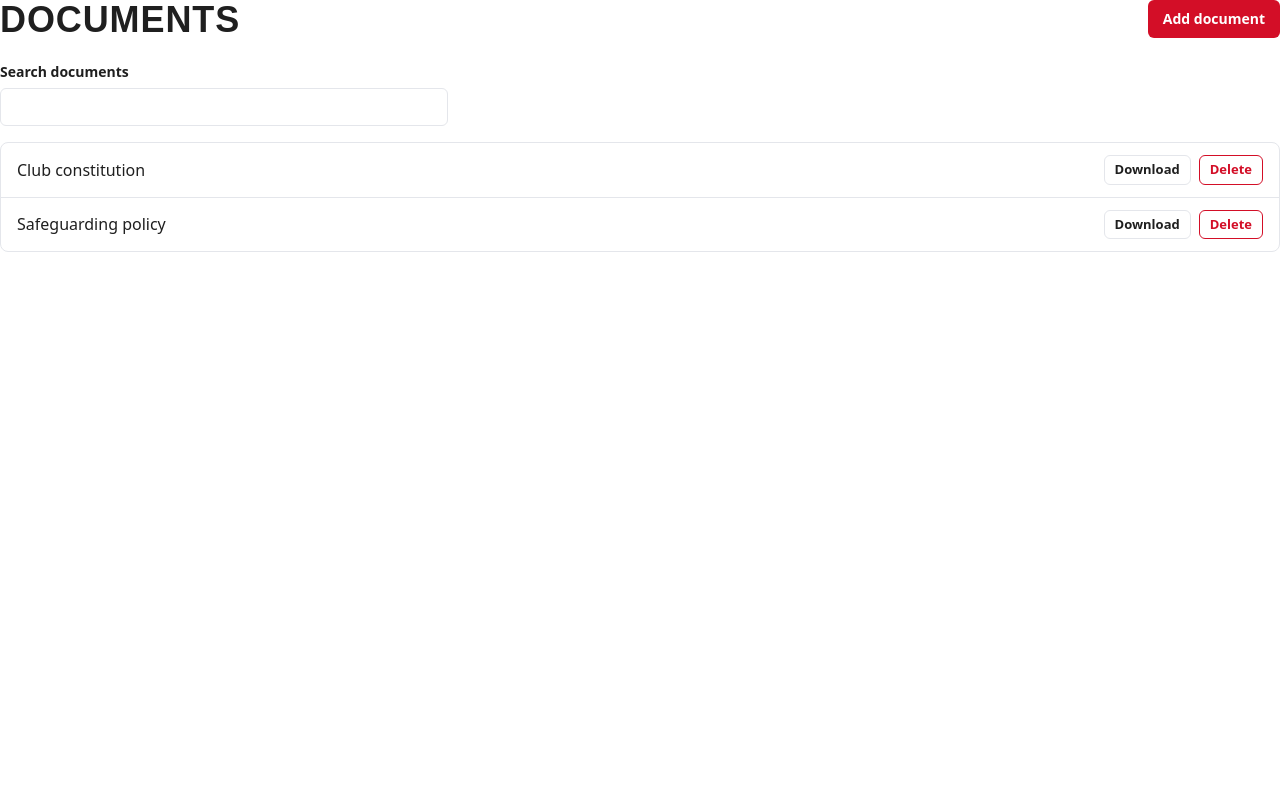
it: Documents editing › deletes a document after confirming
Click the button "Delete" in the row of "Club constitution" at x=1231, y=170, box [1199,155,1263,184]
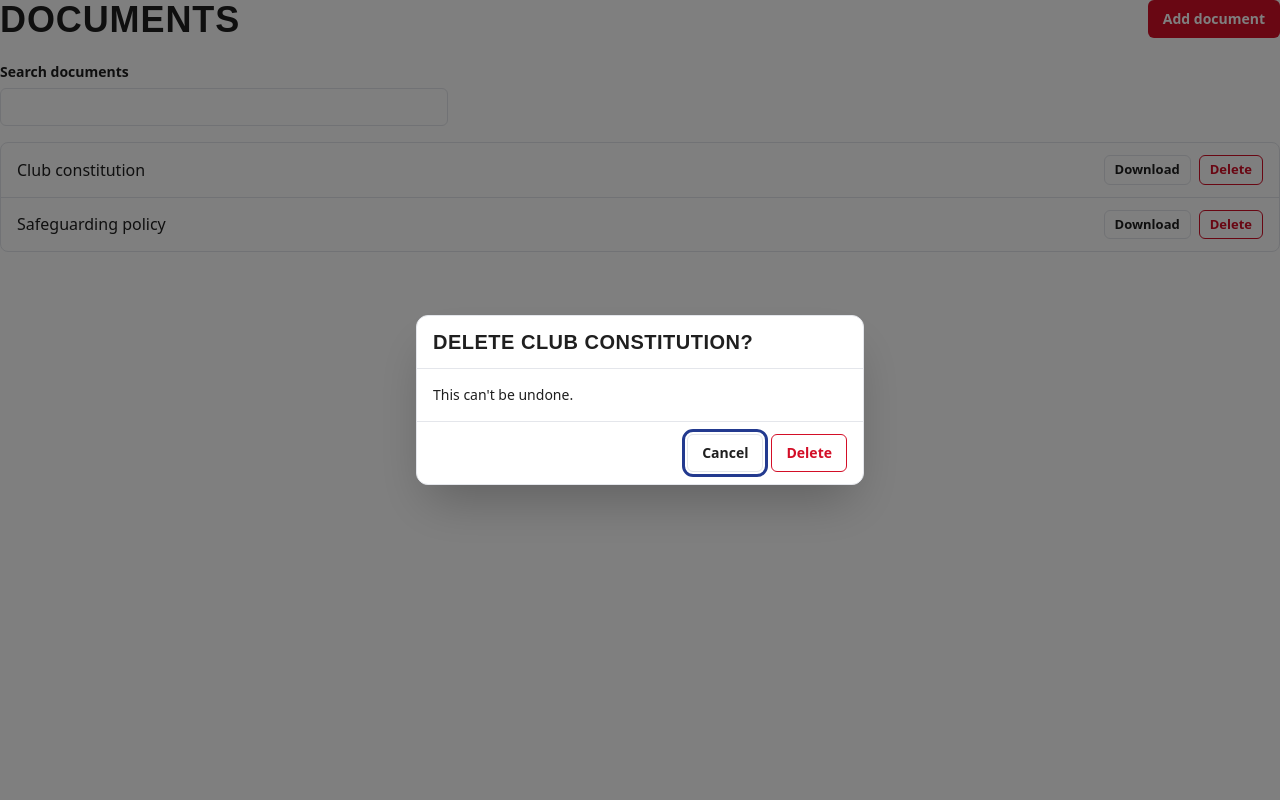
Click the button "Delete" below "This can't be undone." at x=809, y=453, box [772,434,847,472]
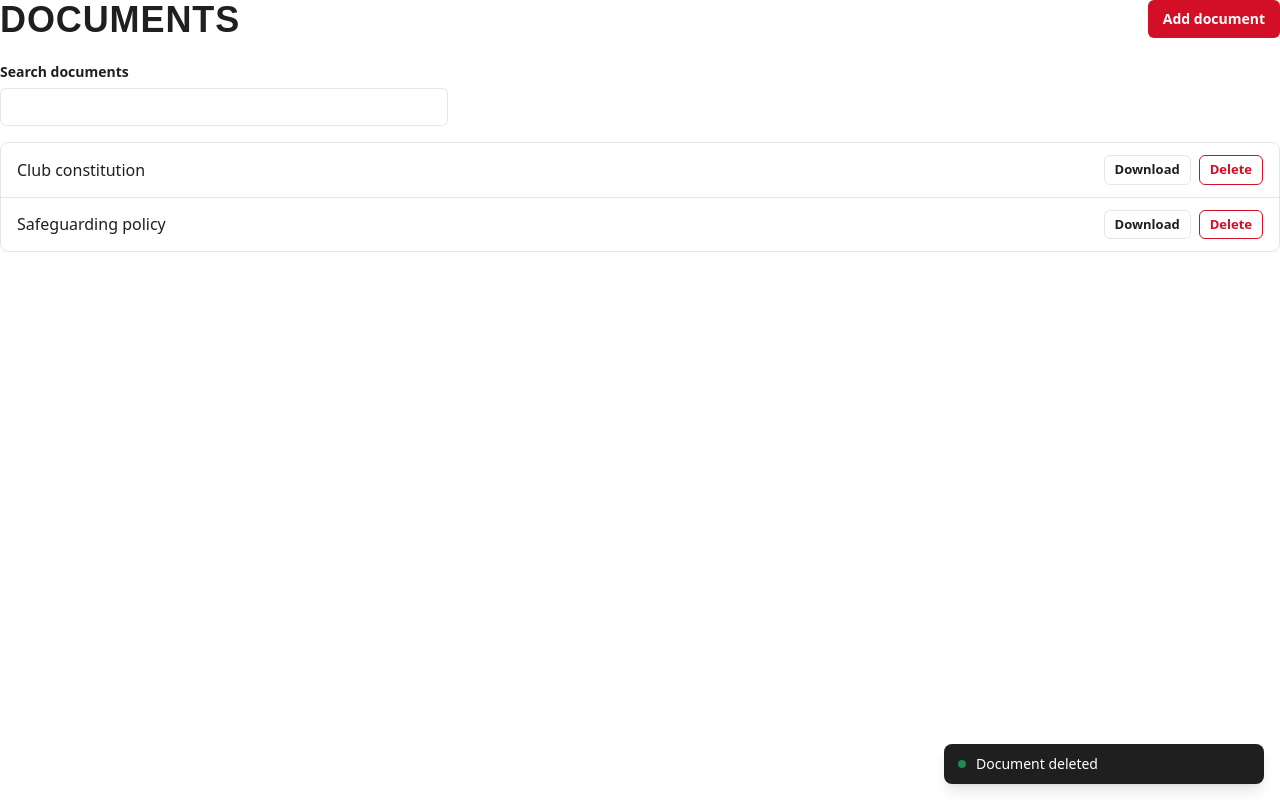
Check: the button "Document deleted" is shown, box [944,744,1264,784]
